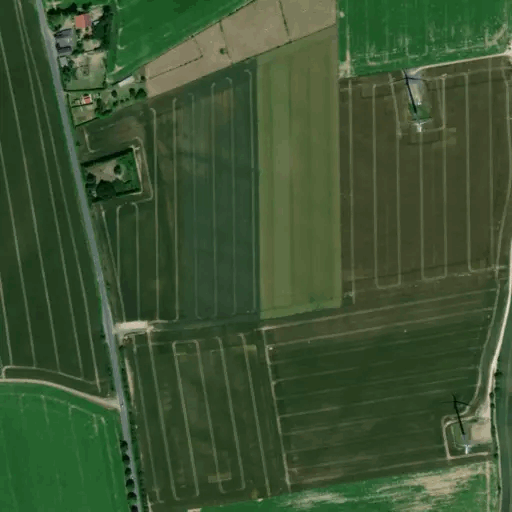wt: (386, 65, 436, 139)
